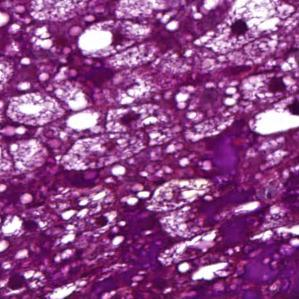ballooning: (191, 3, 285, 56), (57, 132, 153, 173), (78, 17, 156, 61)
